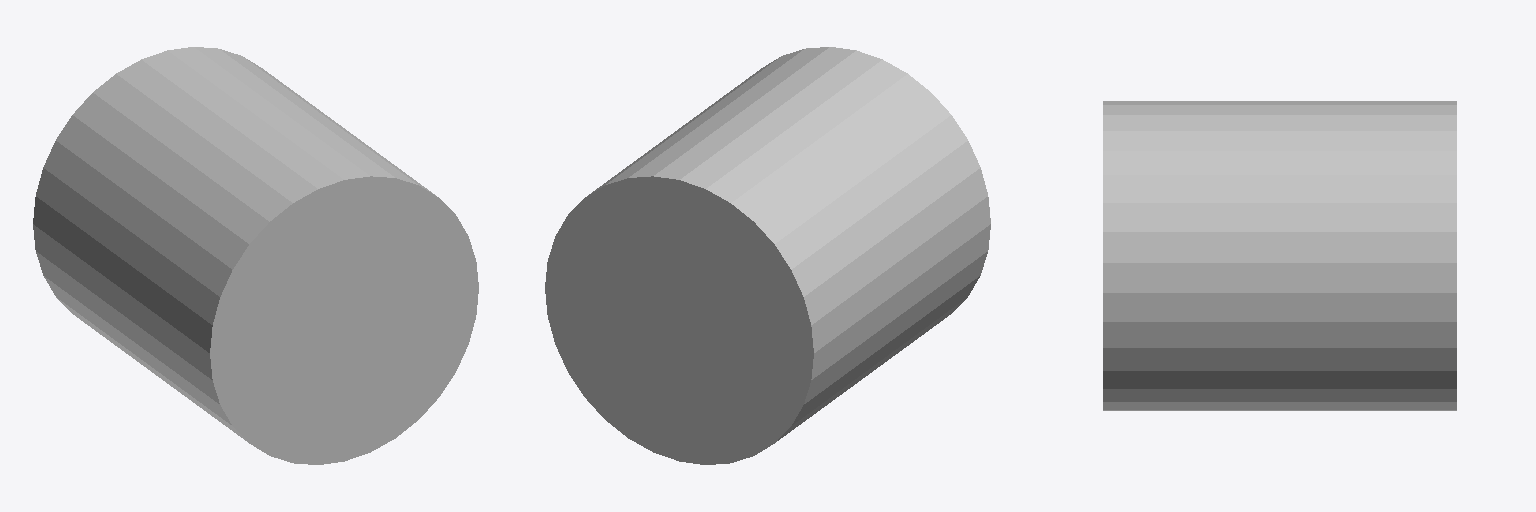
File: screen.obj
3 renders of one model, left to right at view 1: azimuth 30°, elevation 25°; view 2: azimuth 150°, elevation 25°; view 3: azimuth 270°, elevation 25°, orthographic.
Visible parts, largest first — view 1: Screen; view 2: Screen; view 3: Screen.
Part boxes in pixels (x1,y1,x2,y2): Screen: (33, 47, 478, 464); Screen: (545, 47, 990, 464); Screen: (1103, 101, 1456, 410).
Bounding box in the file's own units: 2 × 2 × 2.28.